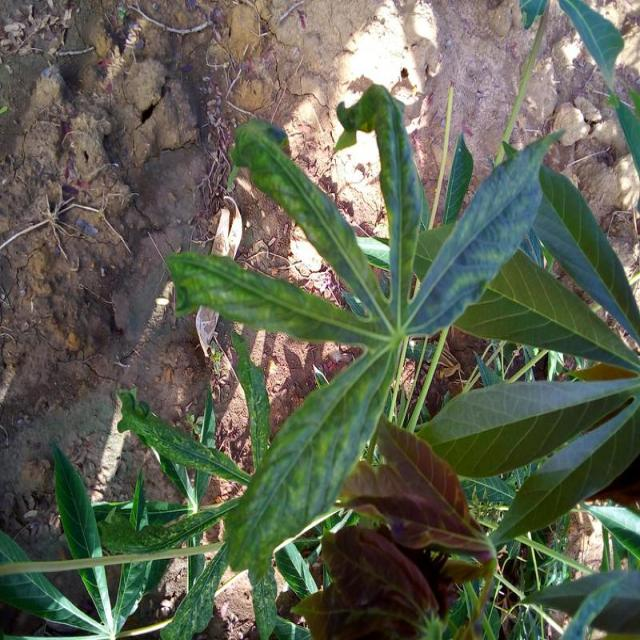cassava leaf: (168, 82, 569, 589)
